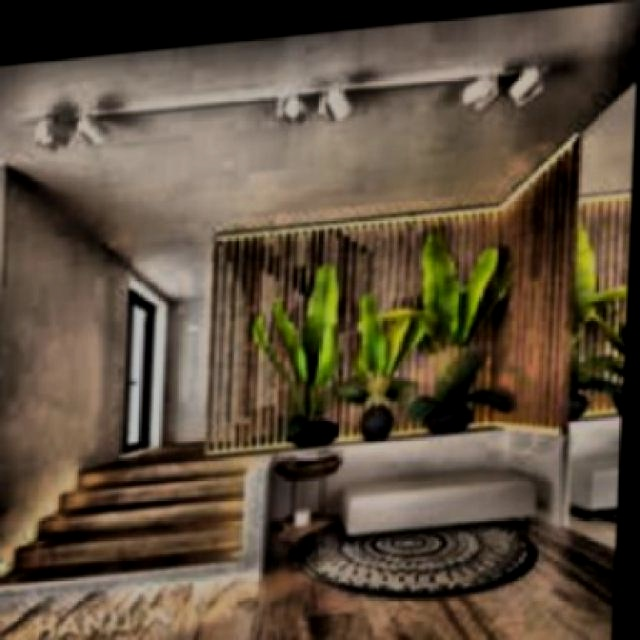stair: (2, 415, 286, 603)
